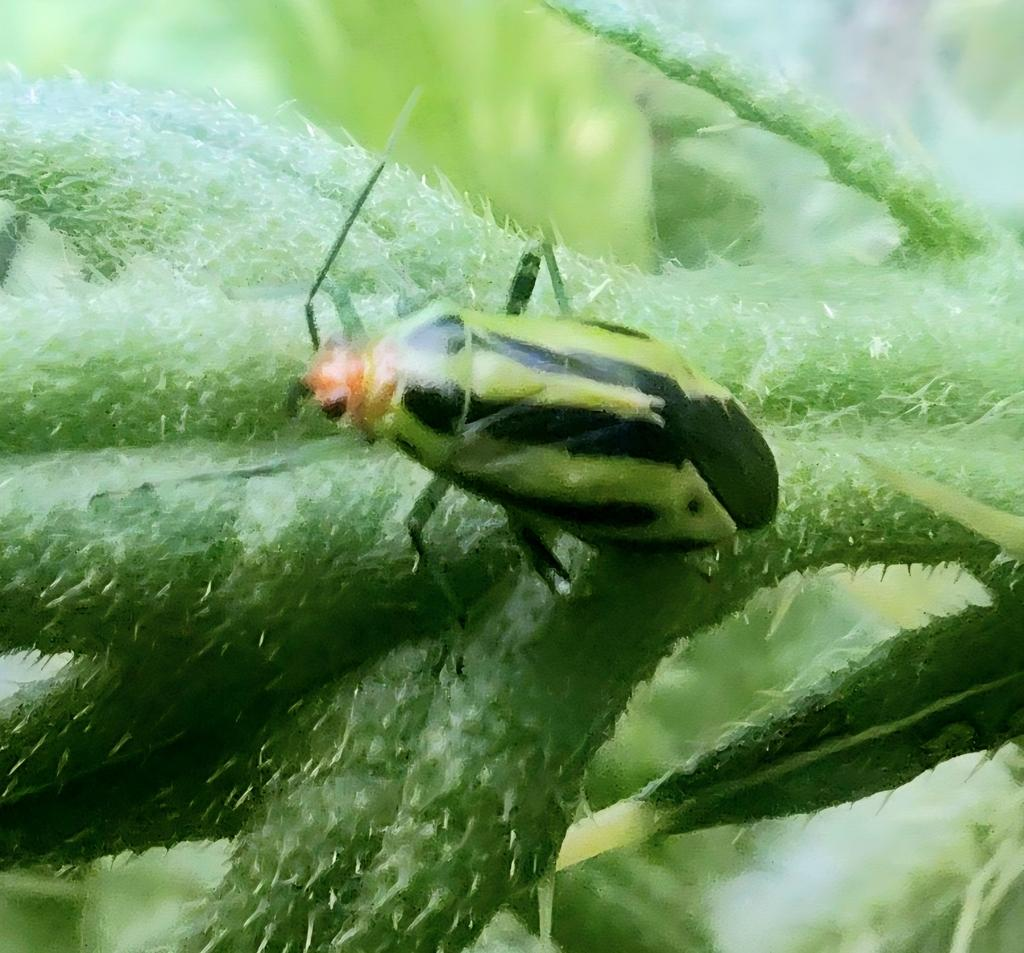plant_bugs: (50, 104, 840, 709)
